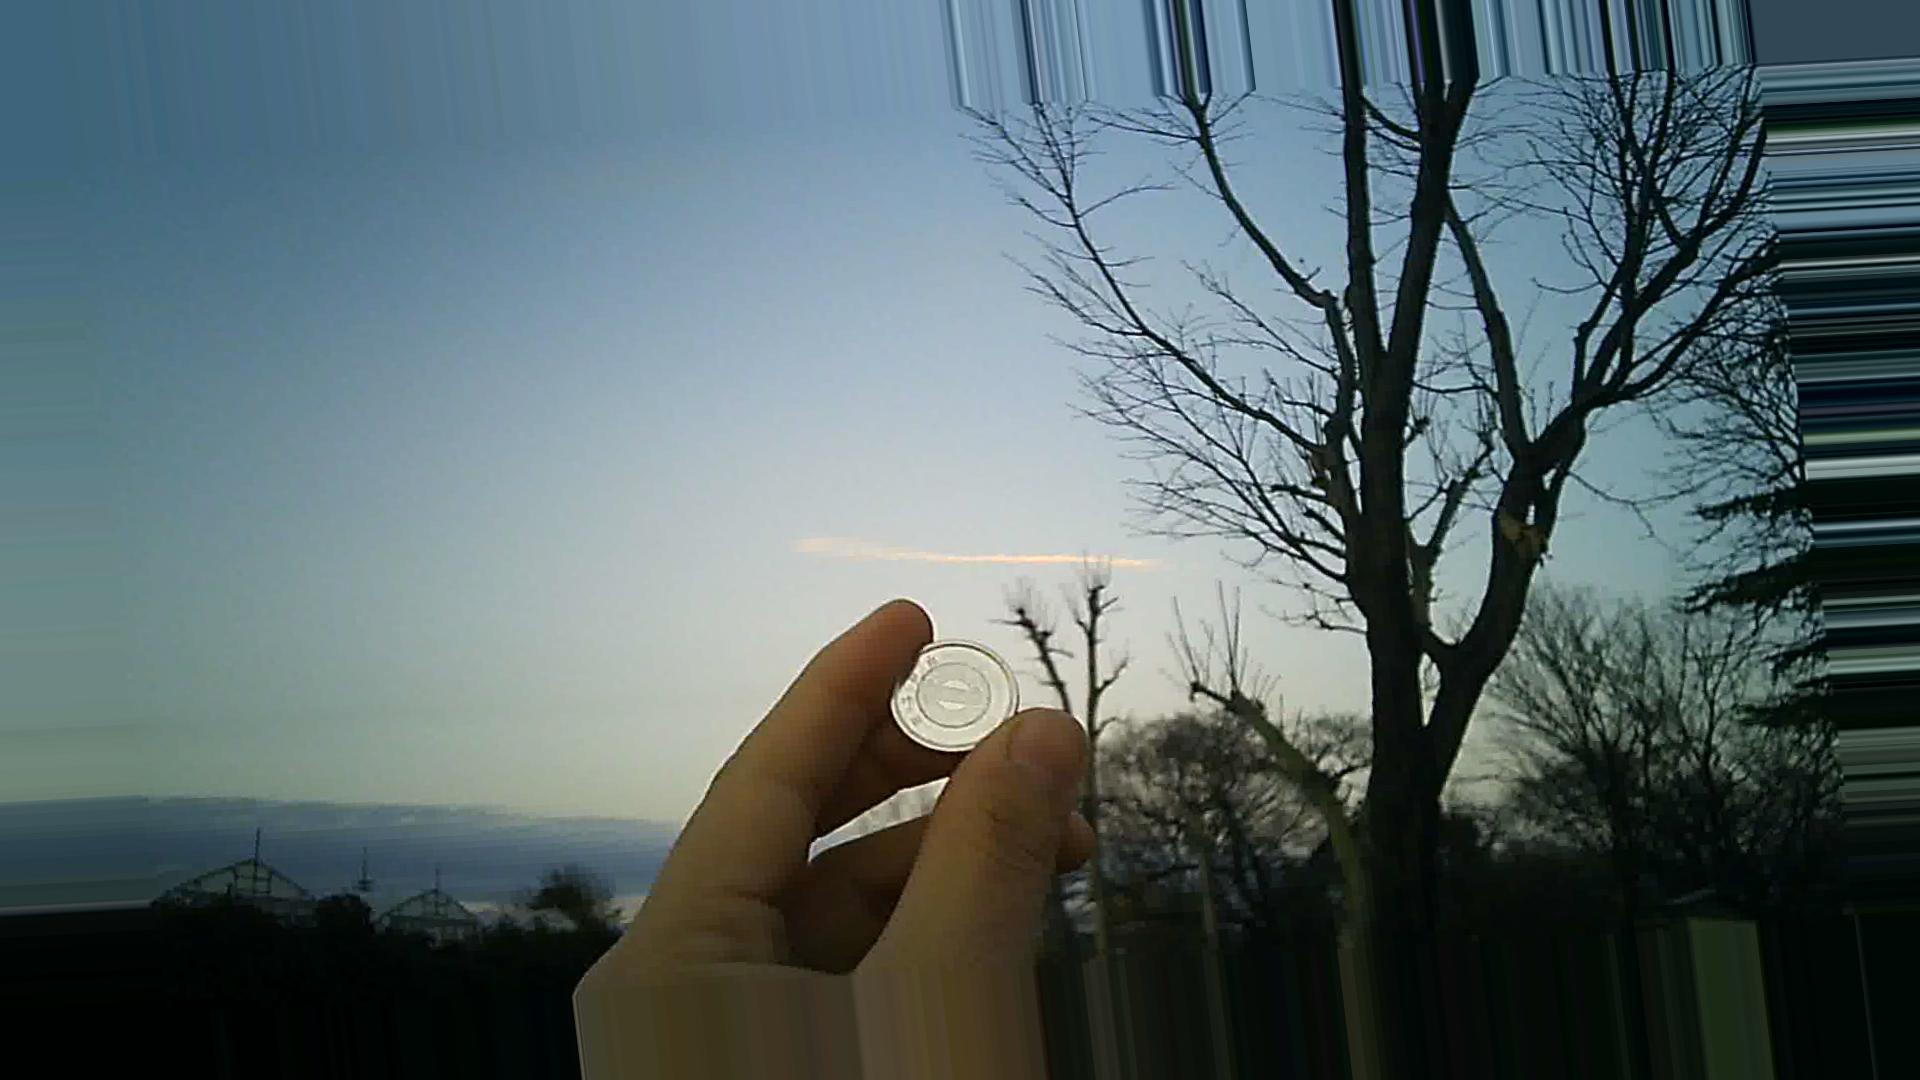1 Yen: (877, 633, 1015, 754)
